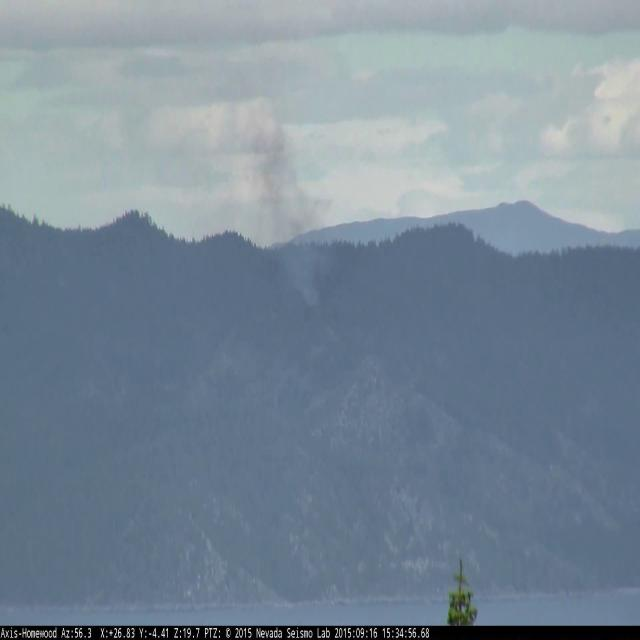smoke: (234, 95, 334, 314)
